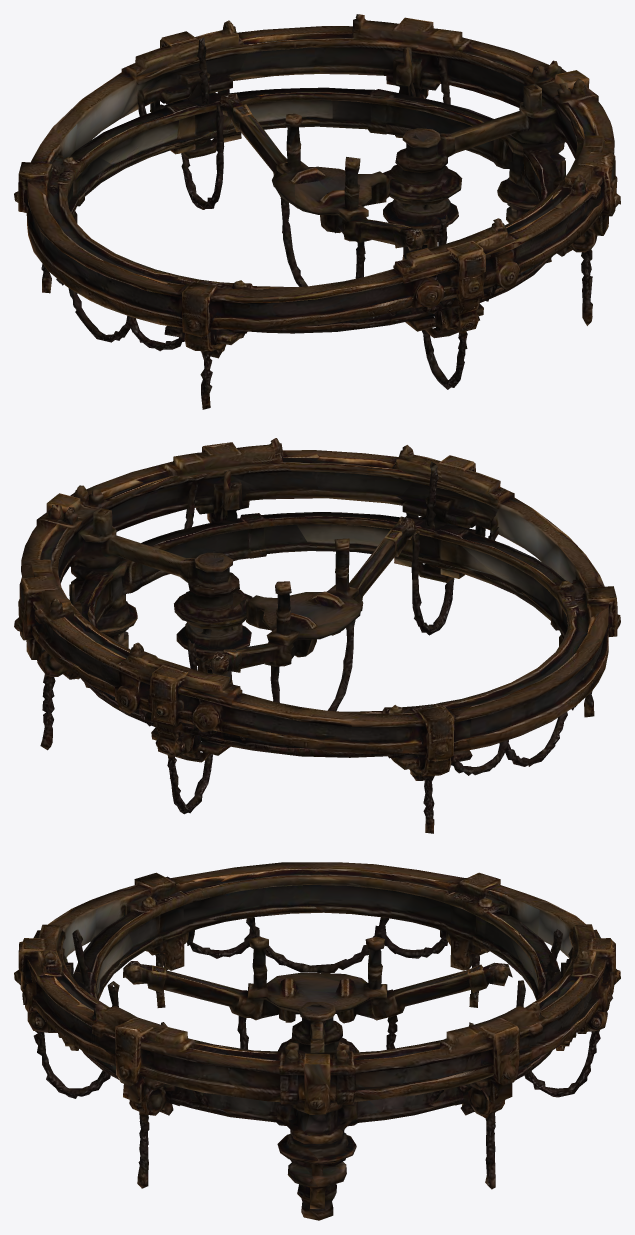
The model's file is ring.glb.
3 views of the same model, one above another, from view 1: azimuth 30°, elevation 25°; view 2: azimuth 150°, elevation 25°; view 3: azimuth 270°, elevation 25° (orthographic).
Visible parts, largest first — view 1: ring; view 2: ring; view 3: ring.
Part boxes in pixels (box(x1,y1,x2,y2)): ring: box(14, 14, 620, 409); ring: box(14, 438, 620, 833); ring: box(14, 862, 620, 1220).
Size of the model in its own units: 3.4 by 1.14 by 3.43.
1 material, 1 textured.
